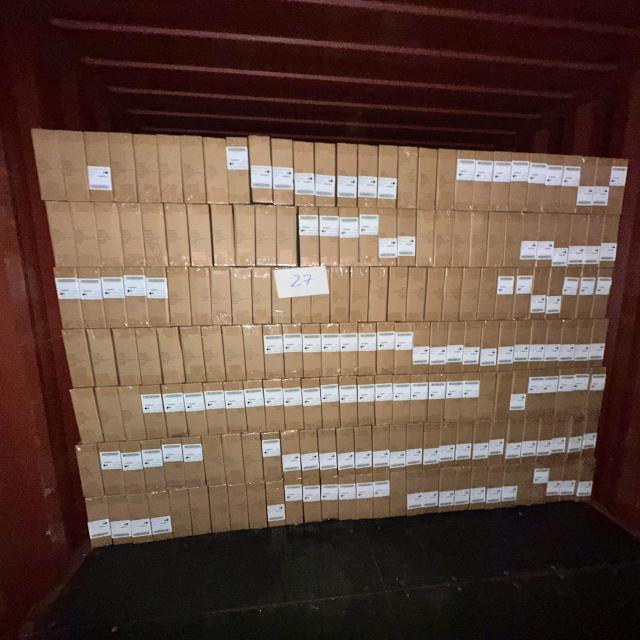Carton: (32, 131, 68, 204), (46, 200, 80, 268), (59, 130, 89, 204), (72, 201, 101, 268), (109, 134, 136, 205), (62, 330, 94, 389), (87, 133, 113, 205), (95, 204, 123, 269), (88, 330, 119, 388), (54, 268, 83, 330), (134, 136, 160, 204), (77, 268, 105, 330), (181, 137, 206, 205), (157, 134, 182, 202), (70, 390, 100, 446), (120, 205, 146, 269), (86, 496, 116, 551), (144, 206, 170, 269), (112, 330, 140, 388), (96, 387, 125, 442), (204, 139, 228, 205), (158, 328, 186, 384), (251, 137, 274, 205), (226, 136, 249, 204), (101, 268, 127, 328), (167, 205, 191, 269), (125, 267, 150, 328), (212, 204, 236, 267), (98, 442, 125, 498), (75, 445, 103, 499), (556, 156, 583, 212), (136, 328, 162, 386), (572, 156, 598, 214), (180, 327, 206, 384), (603, 158, 629, 215), (167, 267, 192, 326), (105, 496, 133, 548), (273, 140, 295, 206), (293, 142, 315, 208), (540, 154, 565, 212), (190, 204, 213, 267), (337, 144, 359, 209), (317, 142, 339, 207), (120, 387, 146, 442), (126, 493, 154, 544), (233, 206, 256, 268), (188, 268, 212, 326), (146, 268, 169, 328), (141, 386, 166, 441), (357, 145, 378, 210), (254, 206, 276, 268), (473, 150, 495, 212), (454, 149, 476, 211), (202, 327, 226, 383), (276, 205, 298, 266), (232, 267, 255, 325), (525, 154, 548, 212), (590, 156, 613, 214), (147, 493, 173, 544), (588, 267, 614, 318), (296, 206, 318, 266), (490, 152, 512, 212), (510, 152, 532, 212), (397, 147, 418, 209), (573, 268, 599, 318), (566, 367, 592, 417), (164, 385, 188, 439), (122, 442, 146, 496), (596, 214, 620, 268), (222, 326, 245, 382), (376, 144, 396, 208), (210, 268, 232, 326), (142, 440, 166, 493), (566, 214, 590, 267), (558, 266, 582, 319), (438, 150, 459, 210), (290, 267, 312, 324), (526, 268, 550, 320), (418, 148, 438, 210), (272, 268, 294, 324), (202, 436, 226, 487), (182, 437, 206, 488), (164, 438, 188, 489), (205, 384, 228, 437), (582, 214, 605, 267), (511, 267, 534, 320), (319, 208, 339, 268), (340, 208, 360, 268), (168, 488, 192, 538), (186, 385, 208, 439), (459, 267, 481, 321), (494, 267, 516, 321), (534, 213, 556, 267), (358, 209, 378, 268), (367, 266, 388, 322), (551, 213, 573, 266), (254, 268, 274, 326), (398, 208, 418, 266), (416, 210, 436, 268), (375, 208, 395, 266), (265, 326, 286, 381), (331, 268, 352, 323), (407, 267, 428, 322), (376, 323, 397, 378), (584, 366, 607, 416), (572, 317, 594, 369), (468, 212, 488, 269), (244, 326, 265, 380), (387, 268, 408, 322), (209, 485, 232, 534), (507, 370, 530, 419), (571, 458, 596, 503), (222, 434, 244, 485), (542, 319, 564, 370), (491, 370, 513, 421), (487, 213, 507, 269), (245, 382, 266, 435), (242, 434, 264, 484), (282, 325, 302, 380), (321, 324, 341, 379), (188, 486, 210, 536), (404, 423, 426, 473), (478, 266, 498, 321), (282, 478, 304, 528), (475, 370, 497, 420), (224, 381, 245, 433), (265, 380, 286, 432), (281, 432, 302, 484), (452, 212, 471, 269), (424, 269, 444, 323), (357, 323, 377, 377), (304, 325, 324, 379), (443, 269, 463, 323), (428, 323, 448, 377), (519, 214, 539, 268), (527, 320, 549, 369), (283, 379, 304, 430), (558, 318, 579, 369), (350, 267, 369, 323), (436, 210, 455, 266), (312, 267, 331, 323), (302, 378, 322, 431), (502, 418, 525, 464), (545, 268, 566, 318), (412, 323, 431, 378), (505, 213, 524, 268), (461, 322, 481, 374), (446, 323, 466, 375), (480, 322, 500, 374), (266, 481, 287, 530), (340, 324, 359, 378), (496, 321, 515, 375), (299, 428, 319, 479), (337, 427, 357, 478), (512, 320, 532, 371), (470, 420, 492, 466), (486, 420, 508, 466), (550, 416, 572, 462), (564, 416, 586, 462), (371, 426, 392, 474), (264, 432, 284, 482), (392, 375, 412, 425), (442, 371, 462, 421), (578, 415, 600, 460), (229, 484, 250, 531), (588, 318, 608, 367), (523, 369, 543, 418), (540, 368, 560, 417), (553, 368, 573, 417), (396, 322, 414, 376), (320, 378, 339, 429), (339, 377, 358, 428), (356, 376, 375, 427), (535, 416, 556, 462), (319, 476, 340, 522), (484, 464, 505, 510), (318, 430, 338, 478), (410, 376, 430, 424), (389, 469, 408, 519), (337, 475, 358, 520), (467, 465, 488, 510), (247, 483, 267, 530), (421, 423, 441, 470), (439, 423, 459, 470), (436, 467, 456, 514), (426, 372, 445, 421), (452, 466, 472, 512), (376, 376, 394, 426), (454, 421, 474, 466), (460, 372, 478, 422), (558, 459, 578, 504), (421, 468, 440, 515), (355, 426, 373, 475), (389, 424, 407, 473), (529, 462, 549, 506), (372, 472, 390, 520), (543, 462, 564, 503), (520, 418, 539, 463), (502, 463, 520, 509), (518, 462, 536, 507), (356, 473, 373, 520), (303, 478, 320, 524), (406, 469, 422, 517)
